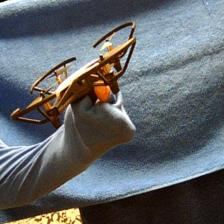drone: (9, 19, 140, 128)
